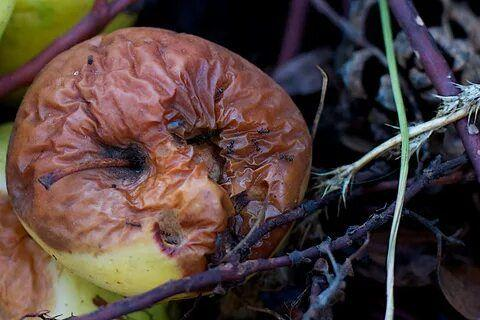Apple: (7, 26, 311, 299)
